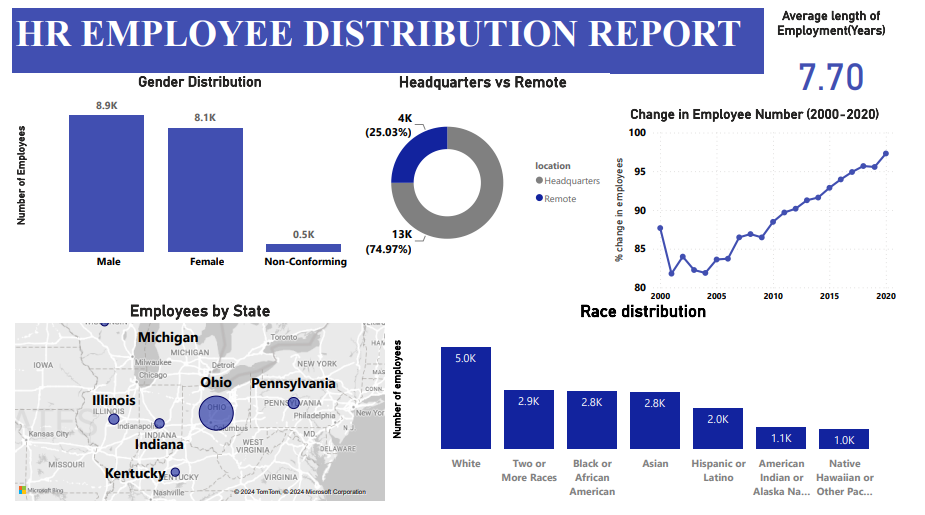

The dashboard page shown, as its layout file describes it:
{"tool":"powerbi","page":{"name":"Page 1","canvas":[1280,720],"ordinal":0},"visuals":[{"type":"textbox","box":[10.2,0,1077.1,93.7],"z":0},{"type":"card","title":"Average length of Employment(Years)","fields":{"Values":["Sum(AVG_LENGTH_EMPLOYEMNT.avg_length_employment)"]},"box":[1087,0,193.2,140.5],"z":1000},{"type":"columnChart","title":"Gender Distribution","fields":{"Category":["GENDER.gender"],"Y":["Sum(GENDER.count)"]},"box":[10.2,93.7,538.5,289.8],"z":2000},{"type":"donutChart","title":"Headquarters vs Remote","fields":{"Y":["Sum(location.count)"],"Category":["location.location"]},"box":[502,93.7,364.4,289.8],"z":3000},{"type":"lineChart","title":"Change in Employee Number (2000-2020)","fields":{"Category":["company employee count over time based on hire and term dates.year"],"Y":["Sum(company employee count over time based on hire and term dates.net_change_percent)"]},"box":[866.3,140.5,414.1,289.8],"z":4000},{"type":"map","title":"Employees by State","fields":{"Category":["location by state.location_state"],"Size":["Sum(location by state.count)"]},"box":[10,420,539,290],"z":5000},{"type":"clusteredColumnChart","title":"Race distribution","fields":{"Category":["RACE.race"],"Y":["Sum(RACE.count)"]},"box":[548.8,420,731.7,289.8],"z":6000}]}

Visuals, with their boxes in screenshot pixels (x1, y1, x2, y2), scaled from the page's 1280x720 canvas onto the 925x515 screenshot:
textbox: bbox=(7, 0, 786, 67)
"Average length of Employment(Years)" card: bbox=(786, 0, 924, 100)
"Gender Distribution" columnChart: bbox=(7, 67, 397, 274)
"Headquarters vs Remote" donutChart: bbox=(363, 67, 626, 274)
"Change in Employee Number (2000-2020)" lineChart: bbox=(626, 100, 924, 308)
"Employees by State" map: bbox=(7, 300, 397, 508)
"Race distribution" clusteredColumnChart: bbox=(397, 300, 924, 508)
